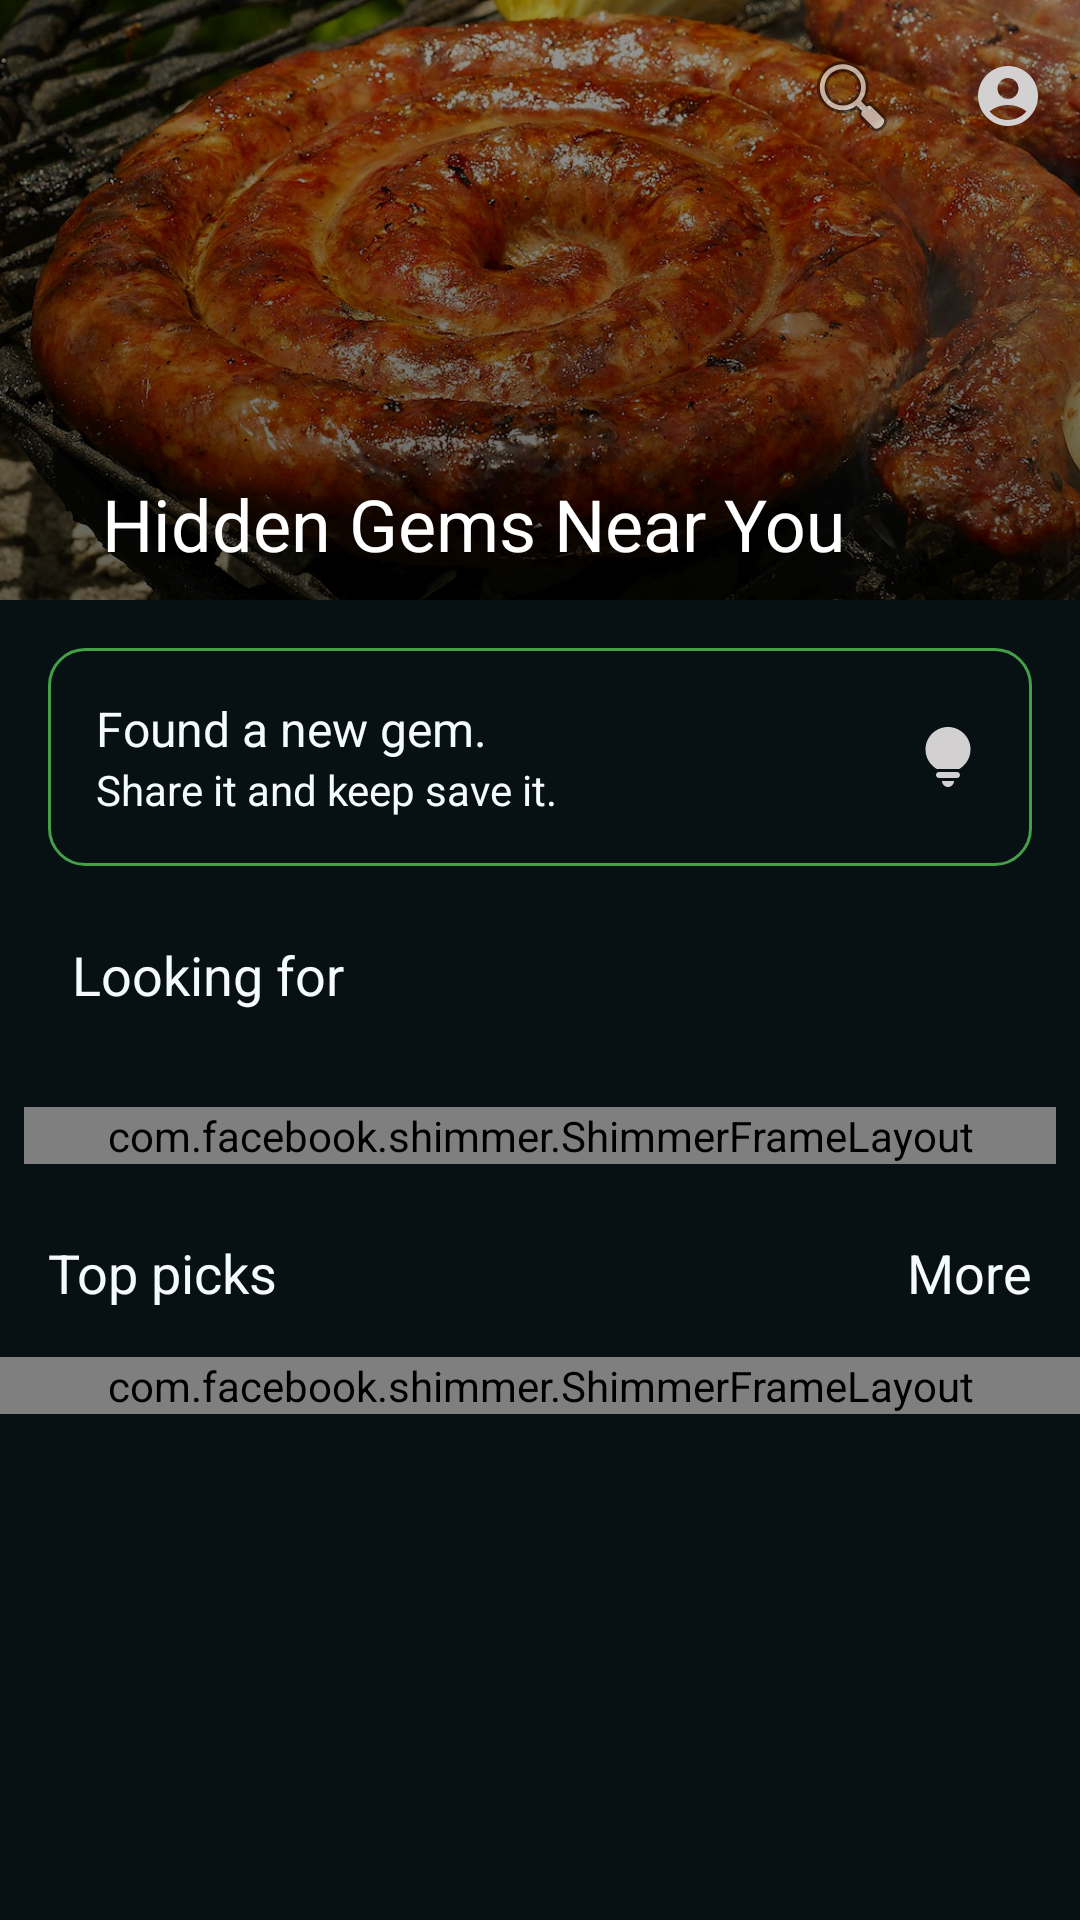

Point at icon controls on the screen. Image size 1080*1920, points as [x,y].
lightbulb: [948,757]
